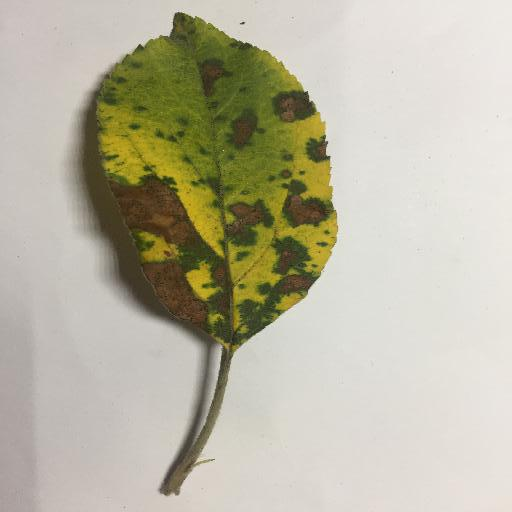Brown_Spot: (112, 181, 203, 250), (148, 265, 229, 335), (275, 247, 306, 293), (232, 204, 269, 240), (285, 195, 328, 221), (278, 94, 311, 124), (224, 118, 255, 147), (197, 62, 222, 97), (309, 136, 329, 169)
